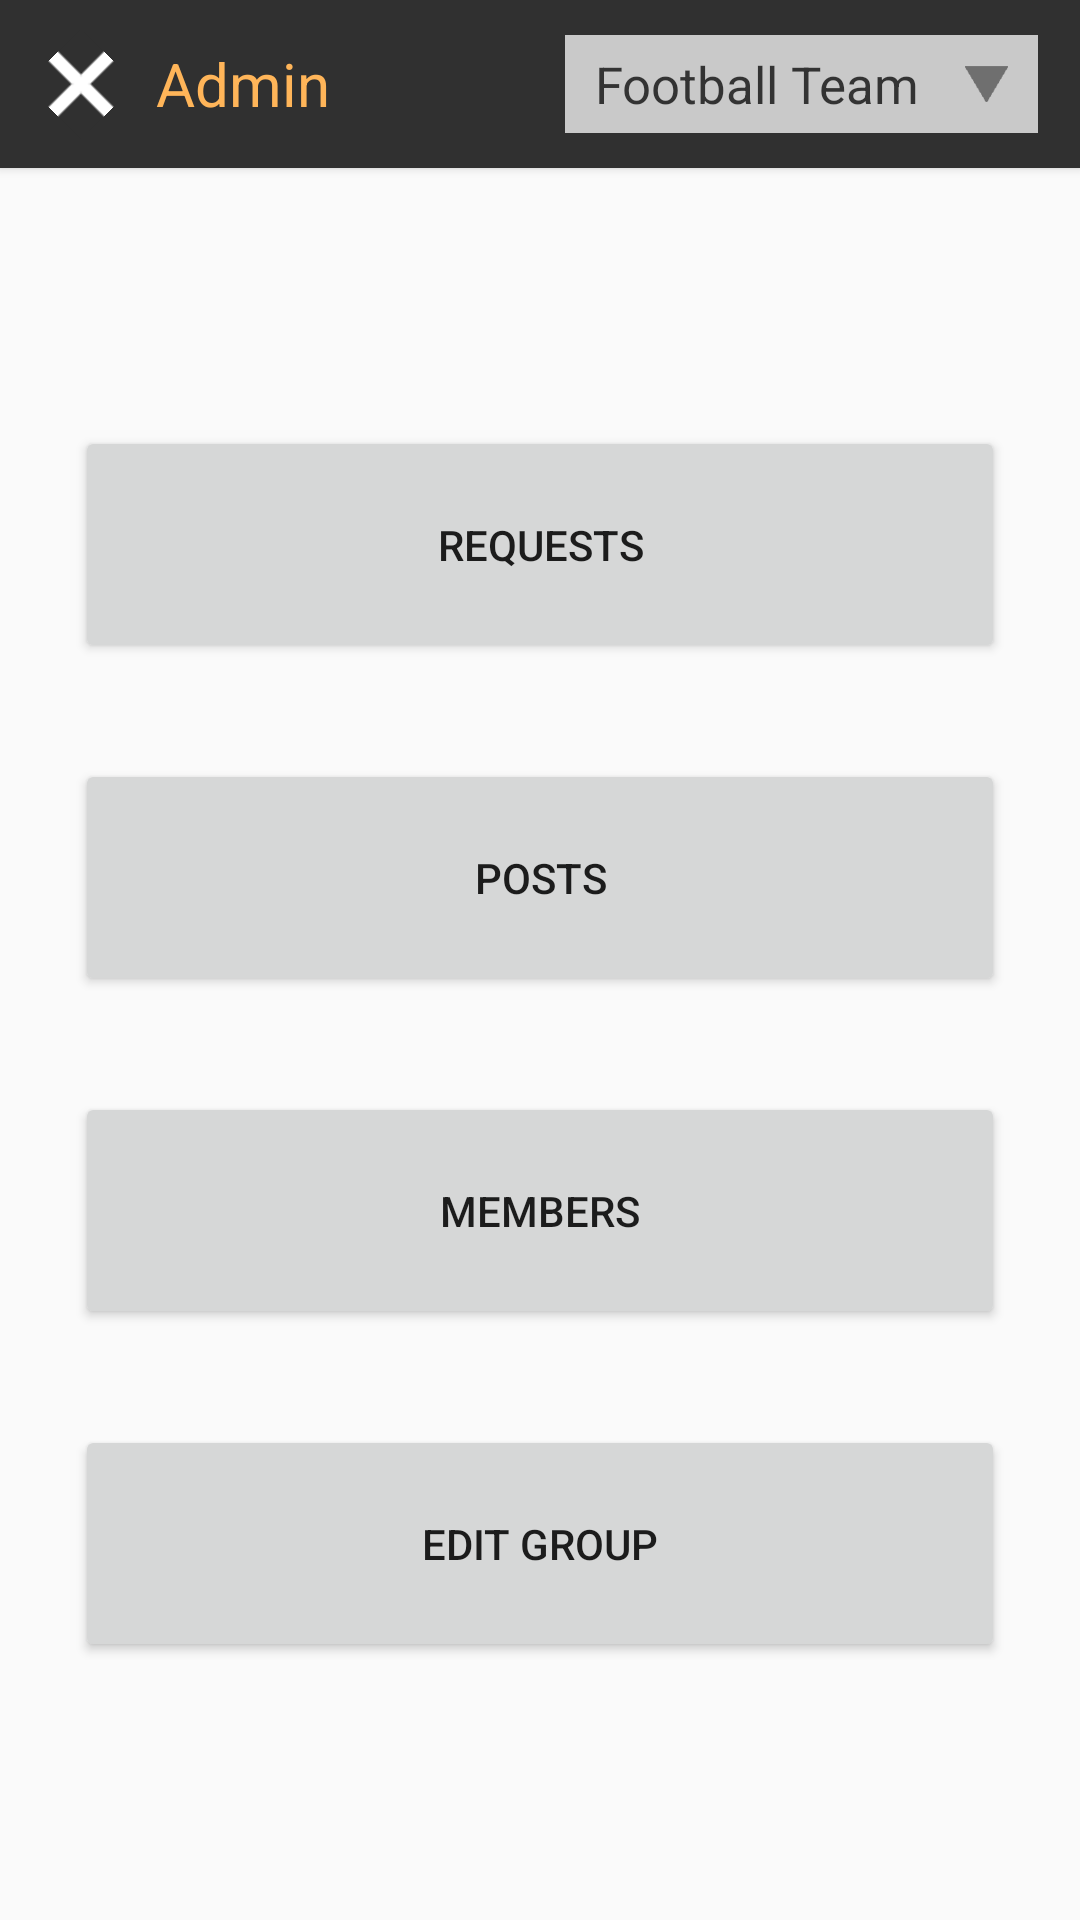

Point at icon controls on the screen. Image size 1080 × 1920, points as [x,y].
down arrow: [986,84]
